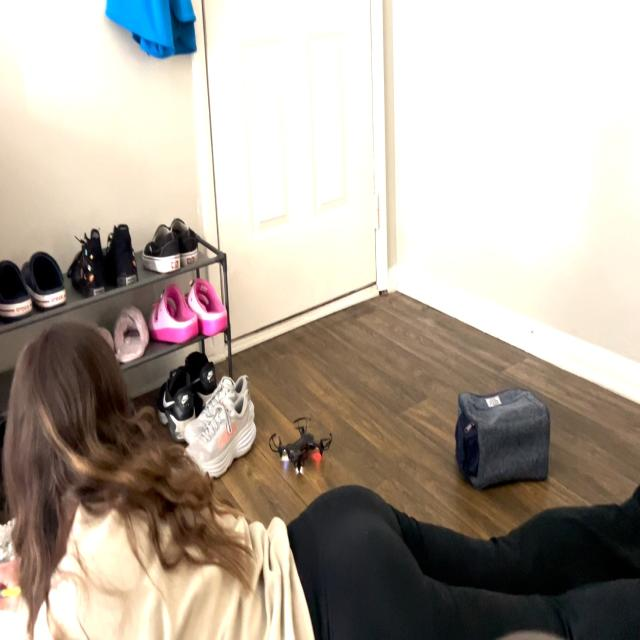drone: (262, 406, 338, 483)
